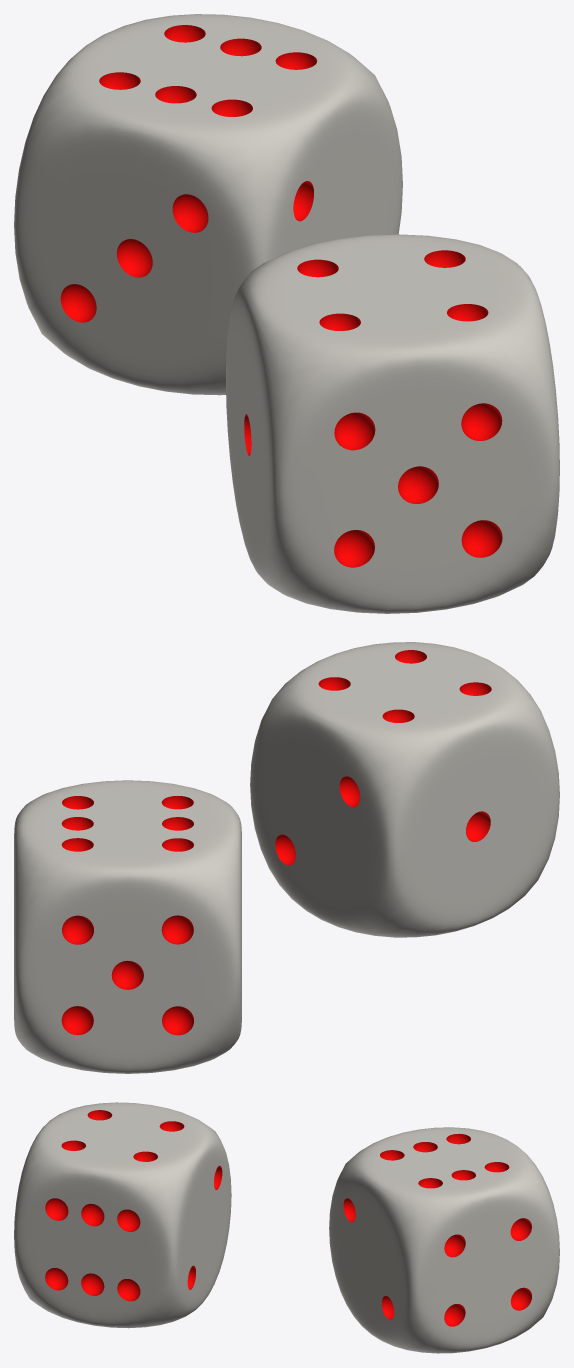
The model's file is dice.glb.
The picture shows the model from 3 angles, top to bottom: view 1: azimuth 30°, elevation 25°; view 2: azimuth 150°, elevation 25°; view 3: azimuth 270°, elevation 25°; orthographic projection. The views are drawn at different scales.
Visible parts, largest first — view 1: dice001_Material #25_0, dice003_Material #25_0, dice001_Material #26_0, dice003_Material #26_0; view 2: dice001_Material #25_0, dice003_Material #25_0, dice003_Material #26_0, dice001_Material #26_0; view 3: dice003_Material #25_0, dice001_Material #25_0, dice001_Material #26_0, dice003_Material #26_0.
Part boxes in pixels (x1=…): dice001_Material #25_0: x1=226, y1=234, x2=559, y2=613; dice003_Material #25_0: x1=14, y1=14, x2=402, y2=395; dice001_Material #26_0: x1=244, y1=250, x2=502, y2=567; dice003_Material #26_0: x1=60, y1=25, x2=317, y2=322; dice001_Material #25_0: x1=250, y1=642, x2=559, y2=937; dice003_Material #25_0: x1=14, y1=780, x2=241, y2=1073; dice003_Material #26_0: x1=61, y1=796, x2=193, y2=1035; dice001_Material #26_0: x1=275, y1=650, x2=491, y2=865; dice003_Material #25_0: x1=329, y1=1127, x2=559, y2=1353; dice001_Material #25_0: x1=14, y1=1102, x2=231, y2=1328; dice001_Material #26_0: x1=45, y1=1110, x2=222, y2=1301; dice003_Material #26_0: x1=343, y1=1133, x2=531, y2=1326.
Bounding box in the file's own units: 0.0811 × 0.05 × 0.1562.
